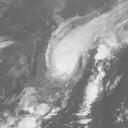cyclone: (49, 41, 79, 80)
